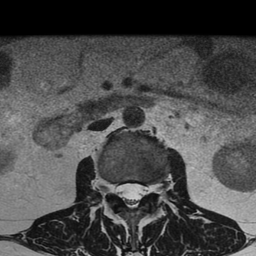CCS_normal: (127, 174, 136, 215)
LFS_normal: (147, 174, 158, 201)
LLS_normal: (136, 177, 147, 209)
RFS_normal: (107, 174, 117, 201)
RLS_normal: (116, 176, 127, 207)
